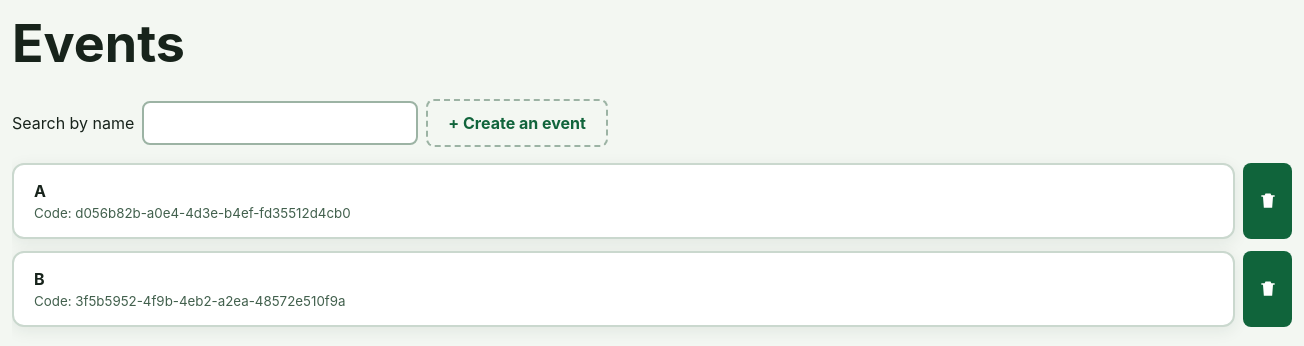
EventsComponent › deletes a single event
The image size is (1304, 346).
What coordinates should you click on to do the following:
click the 1st button with class "delete-button"
I would click on:
 (1268, 201)
Its box is left=1243, top=163, right=1292, bottom=239.
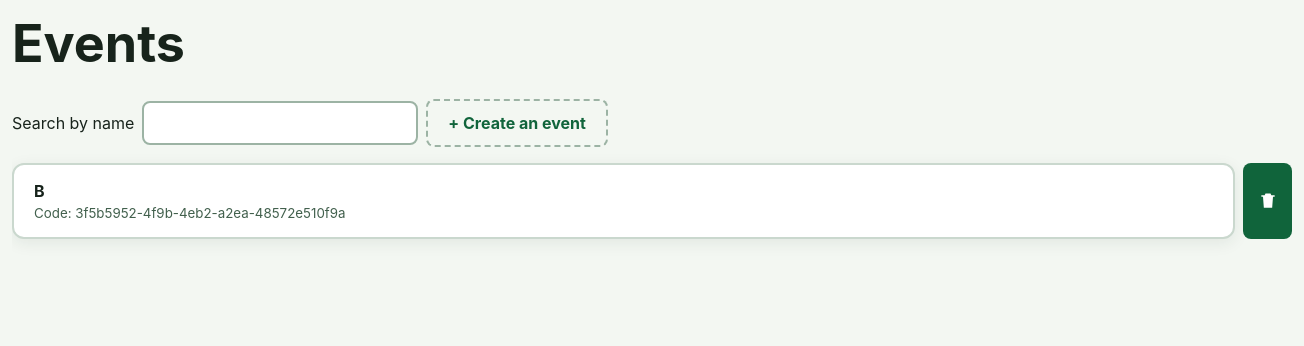
Result: the number of list items with class "event-item" is 1 at left=12, top=163, right=1292, bottom=239
